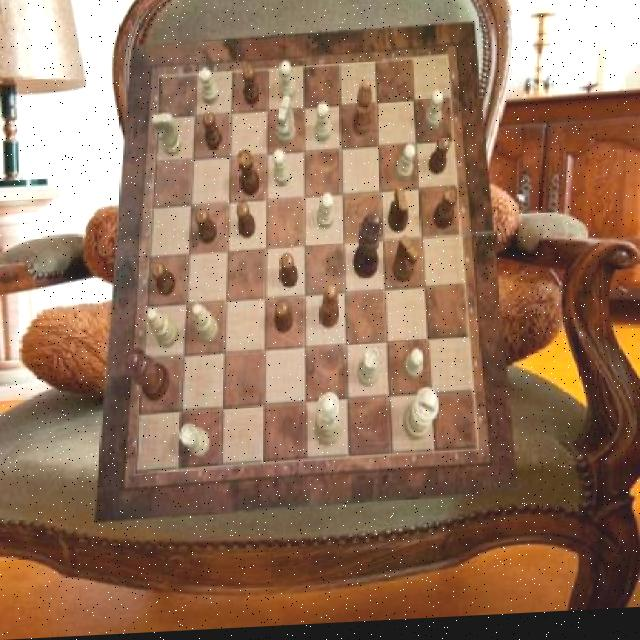bishop: (352, 82, 372, 140), (319, 287, 340, 331)
black-bishop: (352, 217, 383, 283)
black-king: (392, 240, 418, 287), (387, 191, 408, 238)
black-knight: (152, 262, 175, 298), (428, 140, 449, 179), (195, 210, 217, 245), (202, 114, 222, 152), (243, 69, 260, 108), (238, 205, 255, 242), (281, 257, 298, 292), (275, 304, 292, 338)
black-pawn: (123, 348, 169, 405)
black-queen: (432, 189, 458, 234), (238, 152, 260, 199)
black-rook: (146, 310, 179, 351), (192, 305, 218, 346)
white-bishop: (403, 391, 439, 447)
white-king: (152, 114, 183, 158), (274, 99, 294, 149)
white-knight: (198, 70, 218, 108), (278, 63, 296, 105), (394, 149, 414, 186), (425, 94, 443, 135), (273, 151, 291, 190), (314, 107, 331, 147), (317, 196, 334, 233), (404, 352, 423, 384)
white-pawn: (314, 395, 341, 450)
white-queen: (181, 424, 211, 459), (356, 352, 379, 392)
